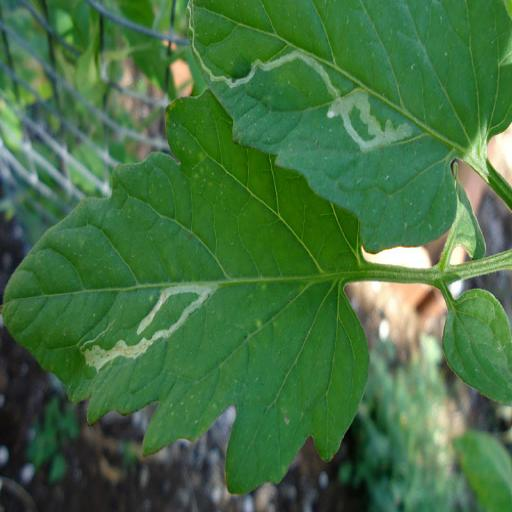Healthy: (443, 286, 512, 406)
Leaf_Miner: (0, 84, 371, 500), (185, 0, 512, 253)
